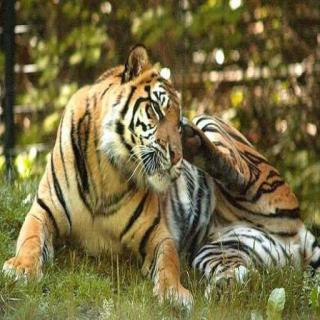Tiger: (1, 43, 320, 310)
